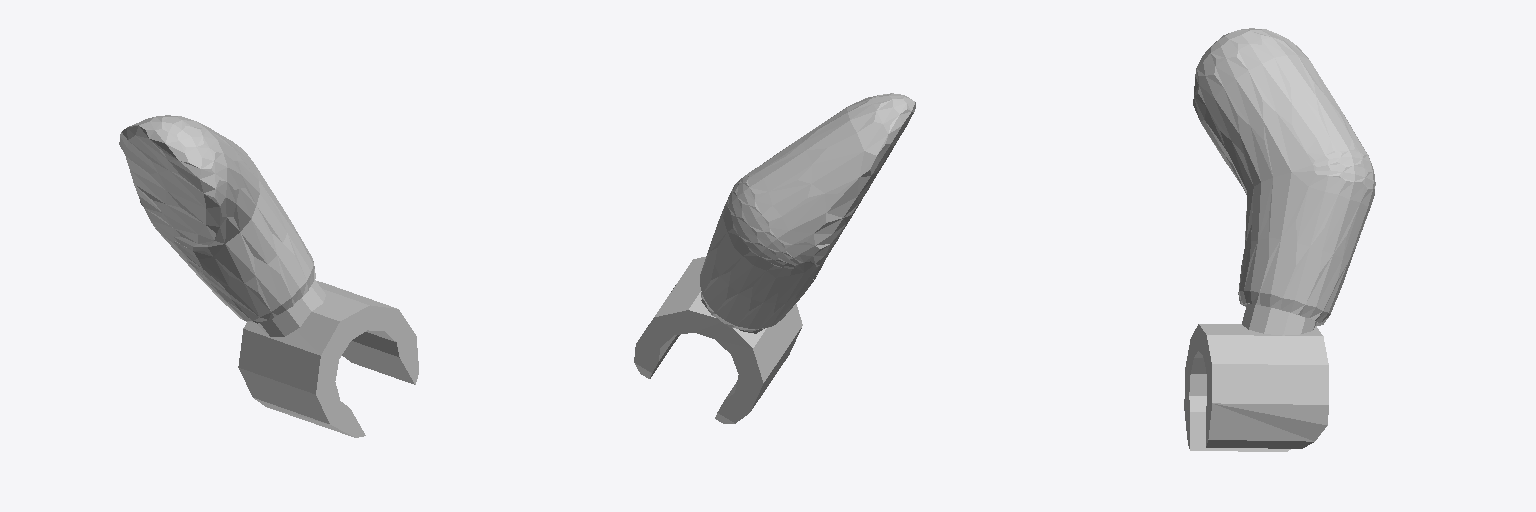
Rendered from brazoDer.obj.
The picture shows the model from 3 angles: view 1: azimuth 30°, elevation 25°; view 2: azimuth 150°, elevation 25°; view 3: azimuth 270°, elevation 25°; orthographic projection.
Parts seen in each view (by area): view 1: brazoDer:BrazoDer; view 2: brazoDer:BrazoDer; view 3: brazoDer:BrazoDer.
Part boxes in pixels (bbox=[...]): brazoDer:BrazoDer: bbox=[119, 115, 418, 437]; brazoDer:BrazoDer: bbox=[634, 93, 915, 423]; brazoDer:BrazoDer: bbox=[1184, 28, 1375, 451].
Bounding box in the file's own units: 0.1642 × 0.2114 × 0.1066.